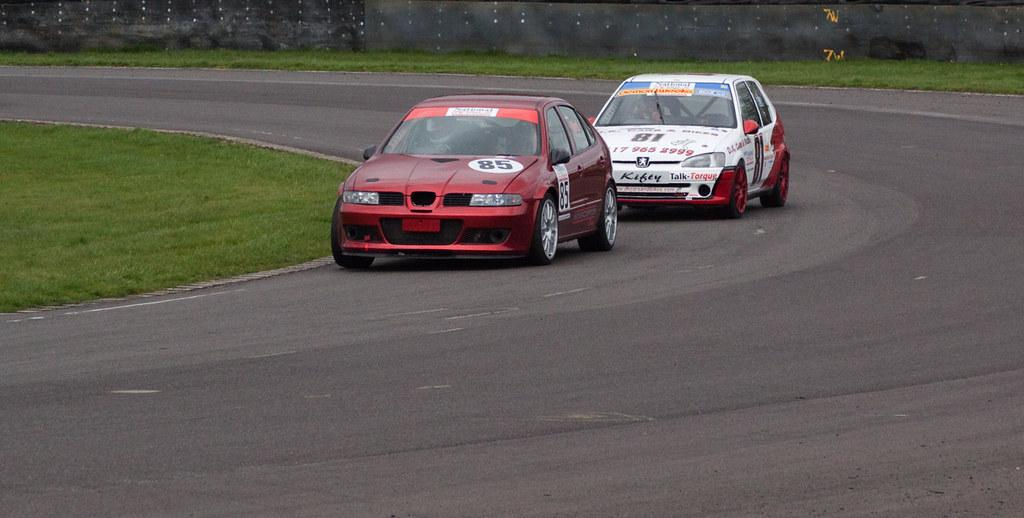car: (331, 94, 619, 269), (590, 73, 791, 219)
